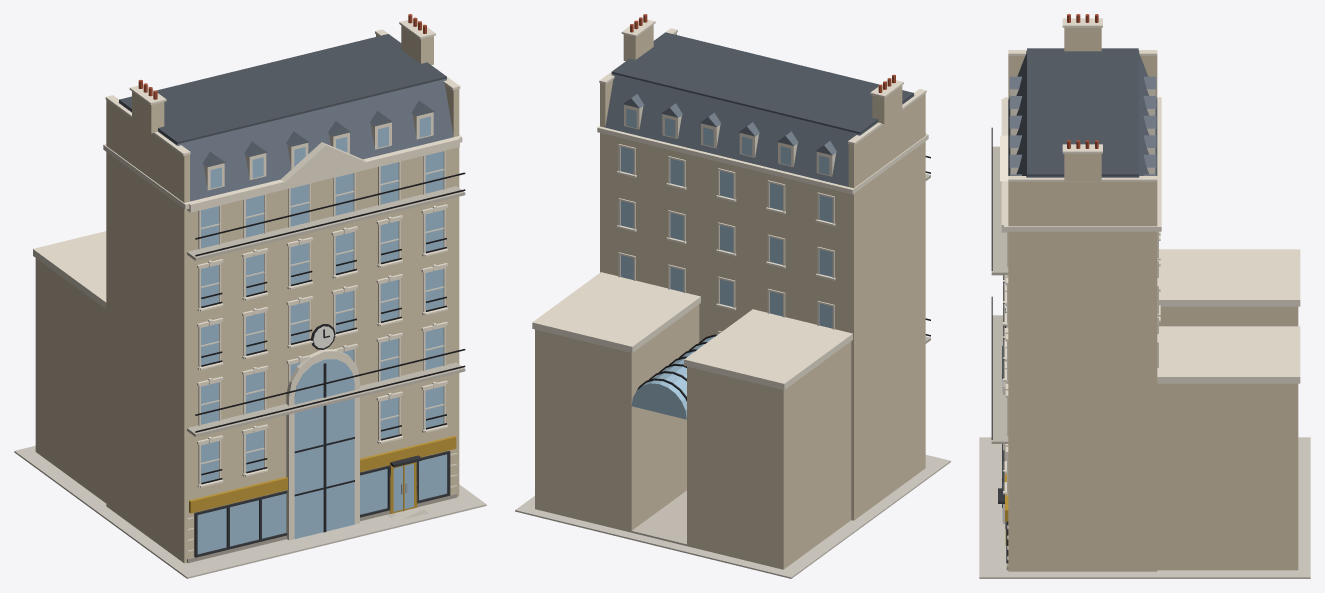
Rendered from Konut_ref_pasajli_Hafif.fbx.
The picture shows the model from 3 angles, left to right: view 1: azimuth 30°, elevation 25°; view 2: azimuth 150°, elevation 25°; view 3: azimuth 270°, elevation 25°; orthographic projection. The views are drawn at different scales.
Visible parts, largest first — view 1: Konut_ref_pasajli_Hafif; view 2: Konut_ref_pasajli_Hafif; view 3: Konut_ref_pasajli_Hafif.
Boxes of the visible parts, x1,y1,x2,y2 form: Konut_ref_pasajli_Hafif: [14, 14, 486, 578]; Konut_ref_pasajli_Hafif: [515, 14, 950, 578]; Konut_ref_pasajli_Hafif: [979, 14, 1310, 578].
Size of the model in its own units: 16 by 23 by 16.
